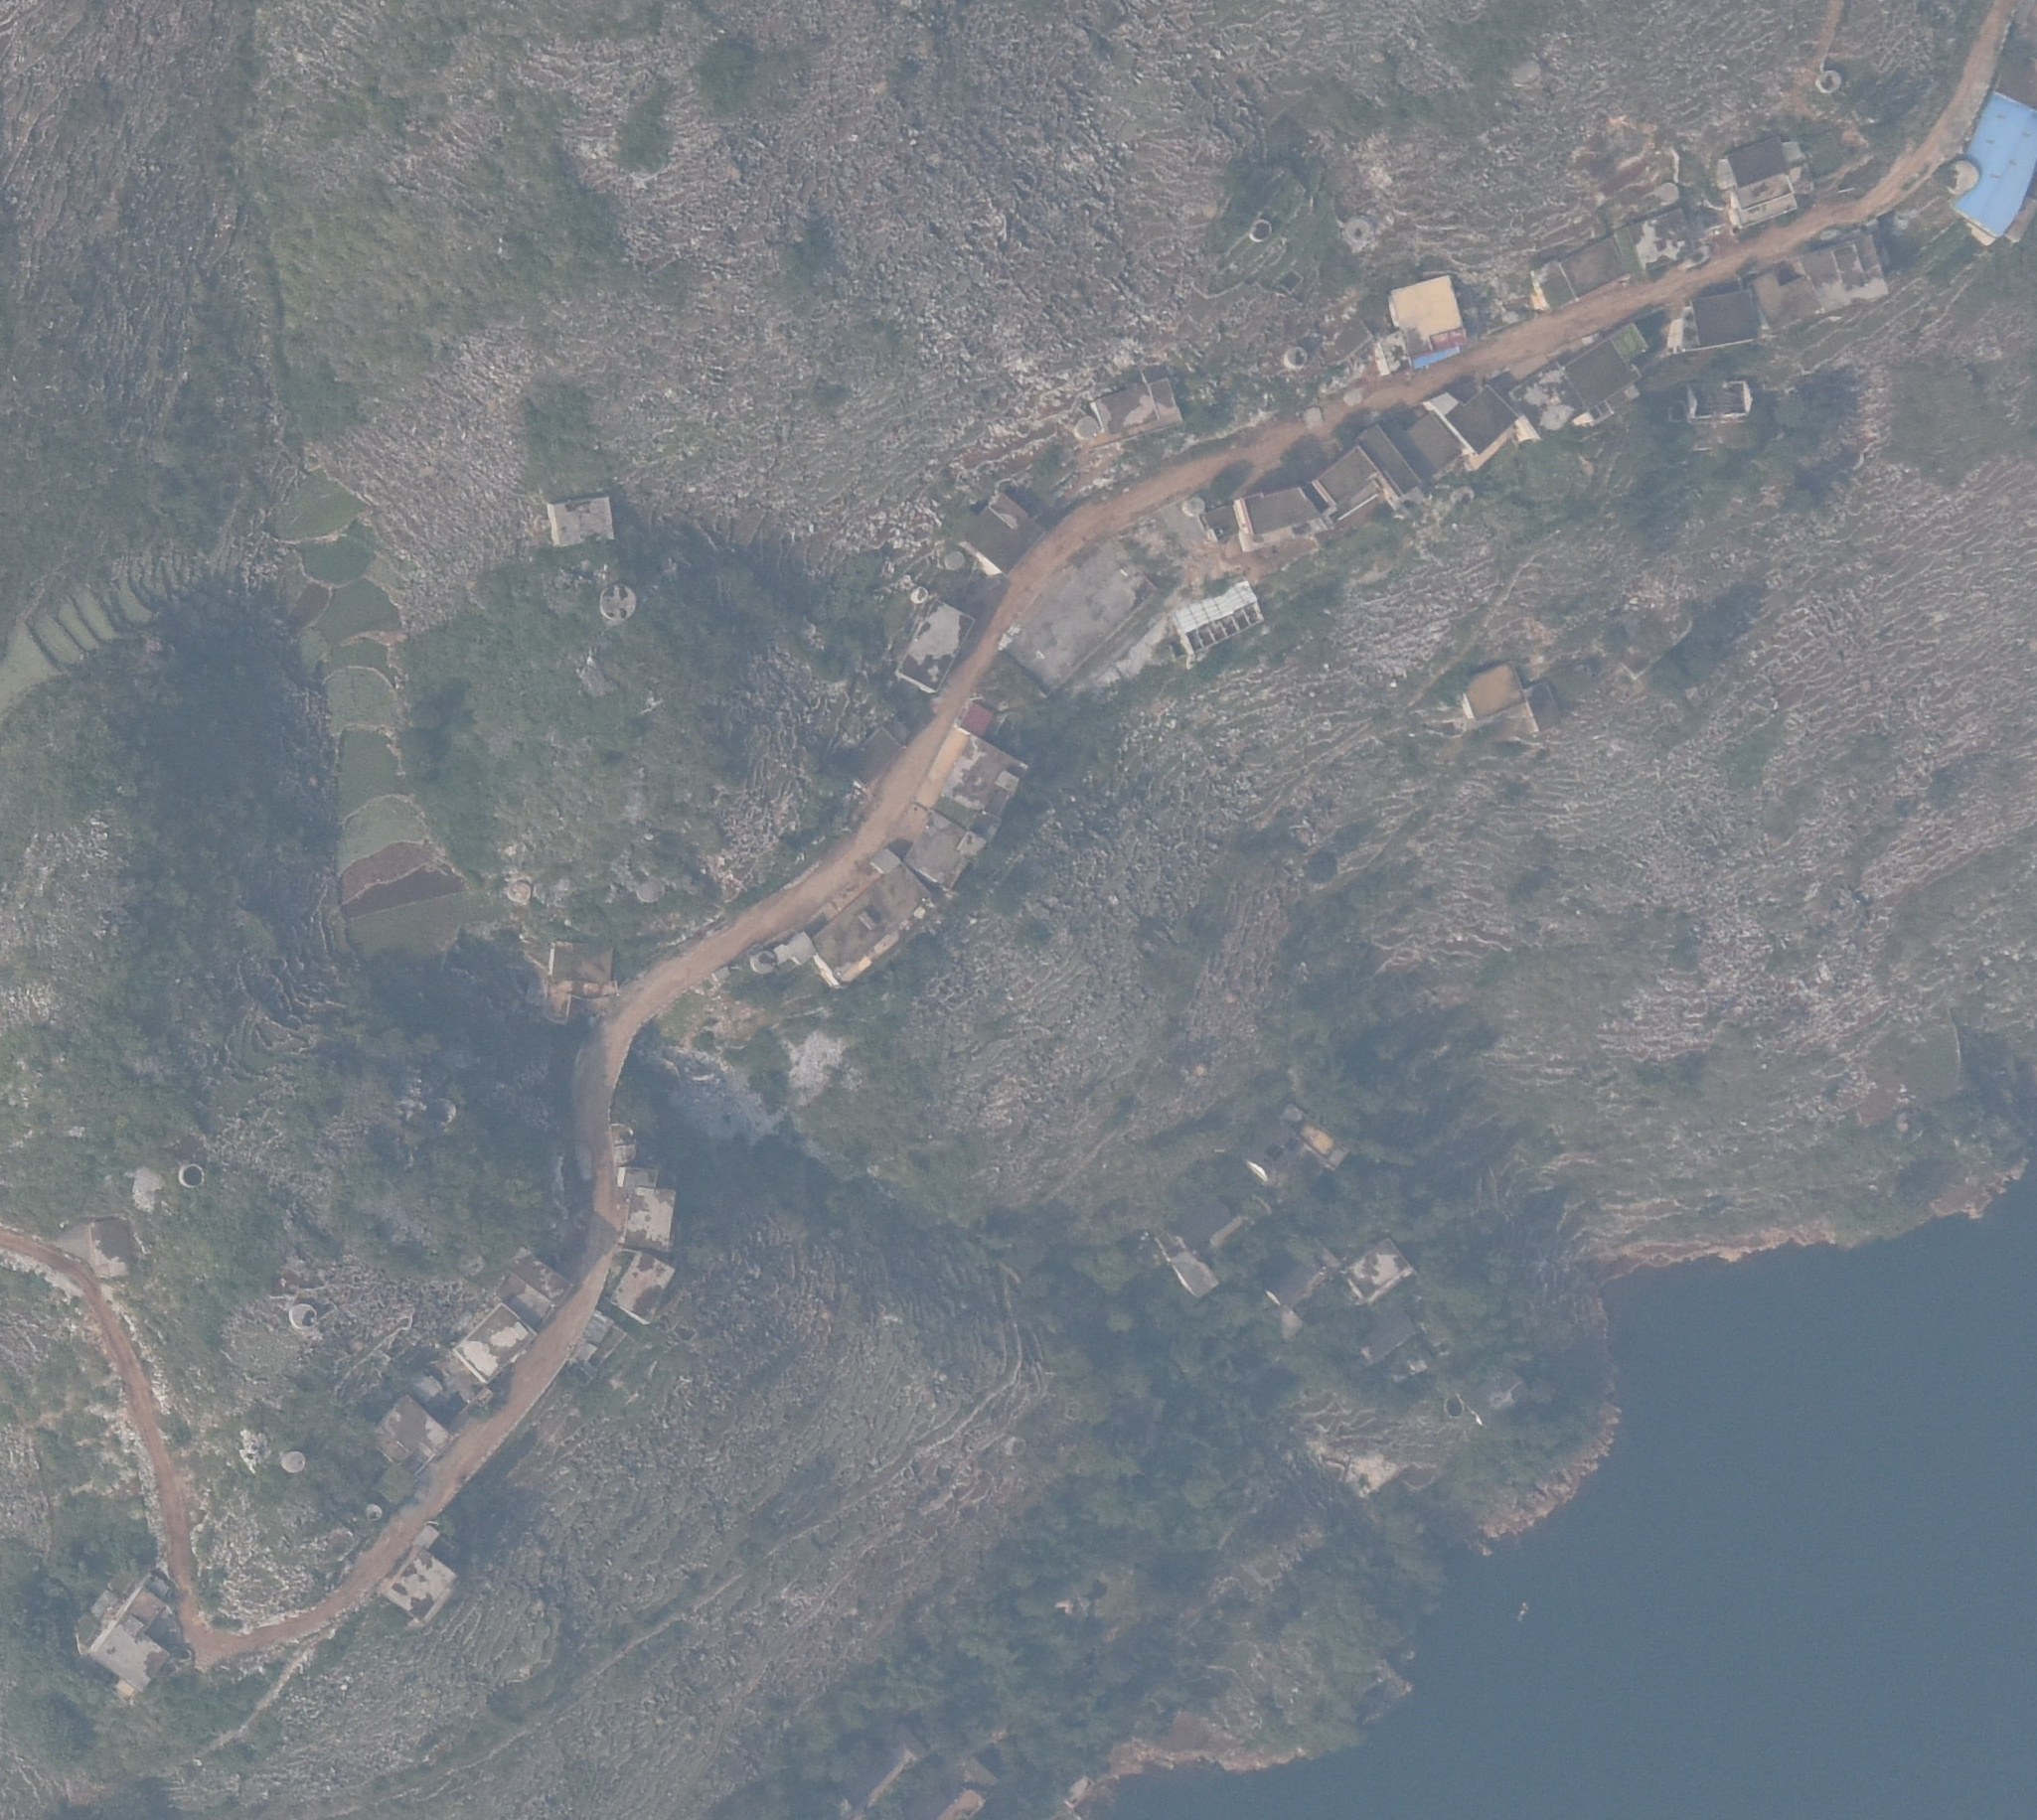building: (809, 864, 938, 994), (1164, 580, 1275, 664), (97, 1581, 178, 1696), (1376, 272, 1472, 366), (1716, 136, 1807, 229), (1226, 481, 1324, 563), (1560, 321, 1651, 406), (365, 1392, 455, 1476), (450, 1303, 541, 1387), (962, 490, 1040, 580), (374, 1544, 459, 1625), (1437, 387, 1528, 462), (901, 812, 984, 894), (901, 601, 973, 694), (1095, 377, 1191, 440), (606, 1250, 679, 1334), (1745, 260, 1826, 335), (1356, 421, 1426, 502), (1557, 232, 1630, 303), (1691, 281, 1766, 349), (1312, 448, 1379, 519), (1629, 209, 1700, 273), (1455, 663, 1526, 720), (624, 1181, 682, 1251), (1520, 679, 1566, 739), (956, 696, 1000, 738), (868, 849, 903, 878)
well: (1747, 262, 1828, 337), (1933, 156, 1988, 197), (598, 582, 637, 620), (277, 1443, 309, 1477), (427, 1094, 459, 1126), (504, 877, 536, 908), (1347, 215, 1378, 245), (746, 948, 778, 978), (1815, 65, 1844, 96), (291, 1299, 323, 1327), (1070, 415, 1100, 441), (1284, 348, 1312, 375), (177, 1159, 204, 1187), (1248, 214, 1273, 241), (638, 878, 667, 902), (1184, 494, 1208, 519), (943, 550, 969, 571), (361, 1501, 385, 1522)
